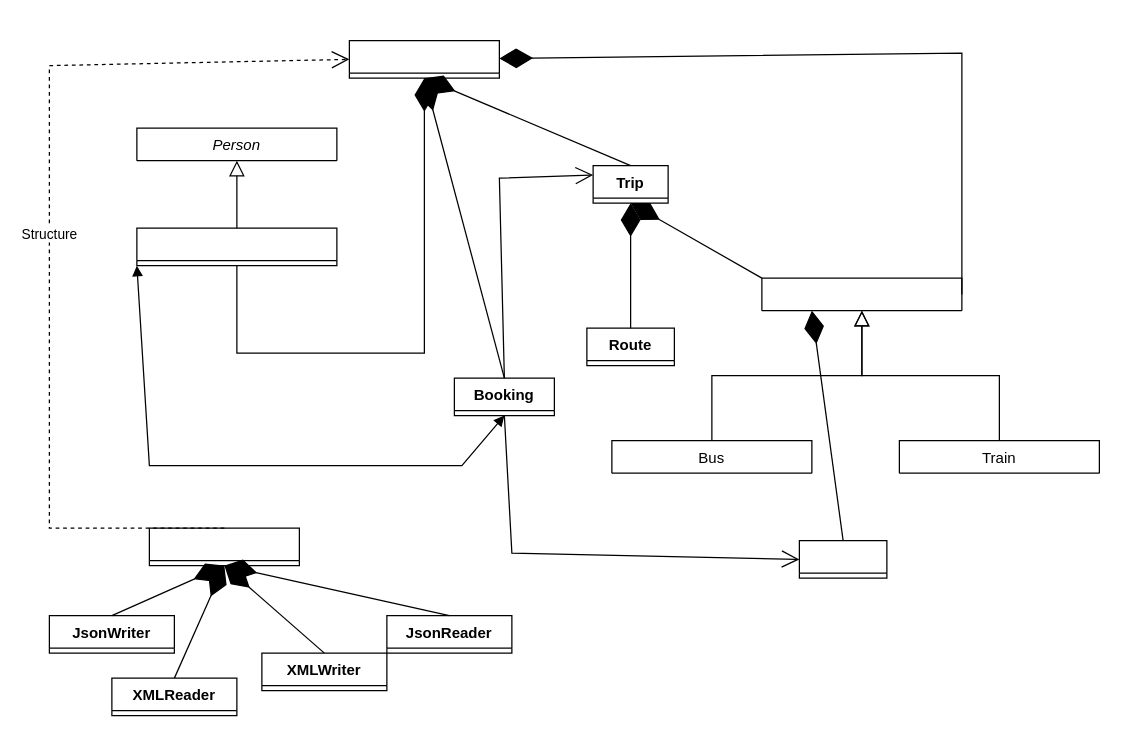
The diagram is 1121 pixels wide and 738 high, and some of its shapes have lost their labels. Here are the shapes that lost their labels. From the top down, the centre of each, then its label:
the point at 423,58: BookingSystem
the point at 236,246: Passenger
the point at 861,294: Transport
the point at 223,546: DataSerializer
the point at 842,558: Seat
